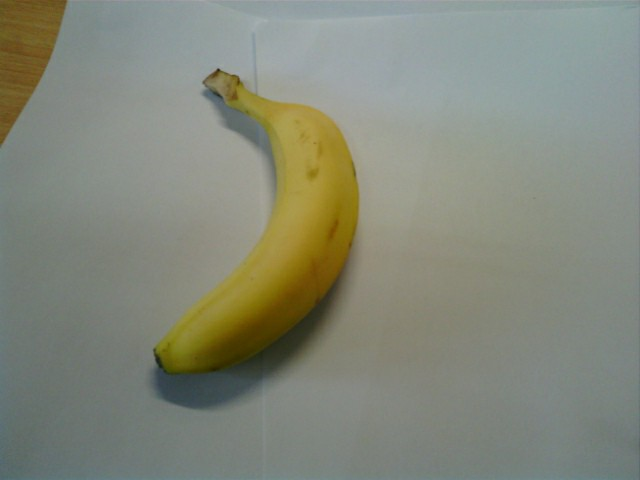fresh_banana: (150, 81, 361, 377)
